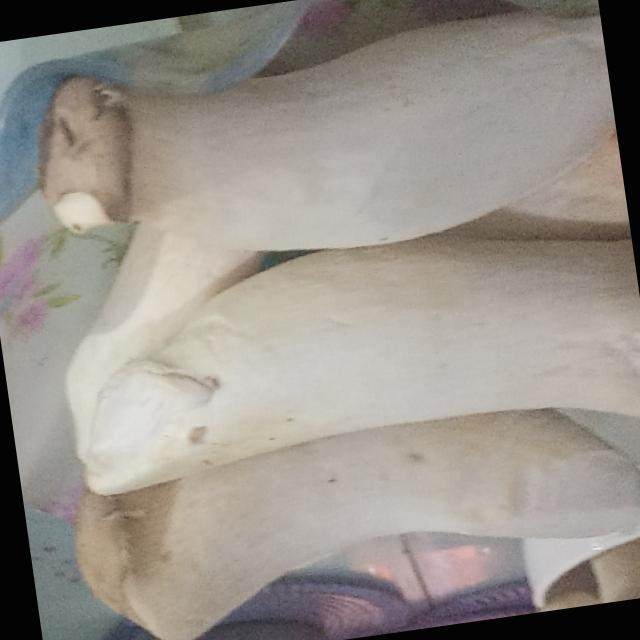Pleurotus eryngii: (45, 208, 640, 499), (36, 0, 628, 292), (64, 389, 640, 640)
